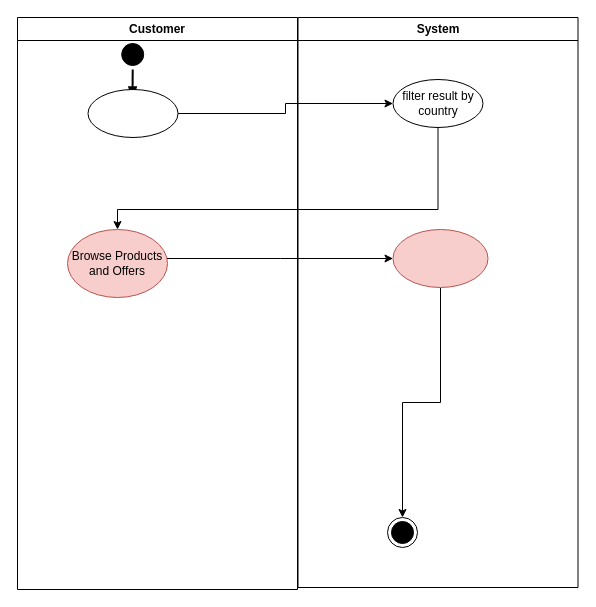
The diagram is 596 pixels wide and 607 high, and some of its shapes have lost their labels. Here are the shapes that lost their labels. From the top down, the box of each, then its label:
(87, 88, 178, 138): search for product
(392, 228, 488, 288): Update customer prefrences
